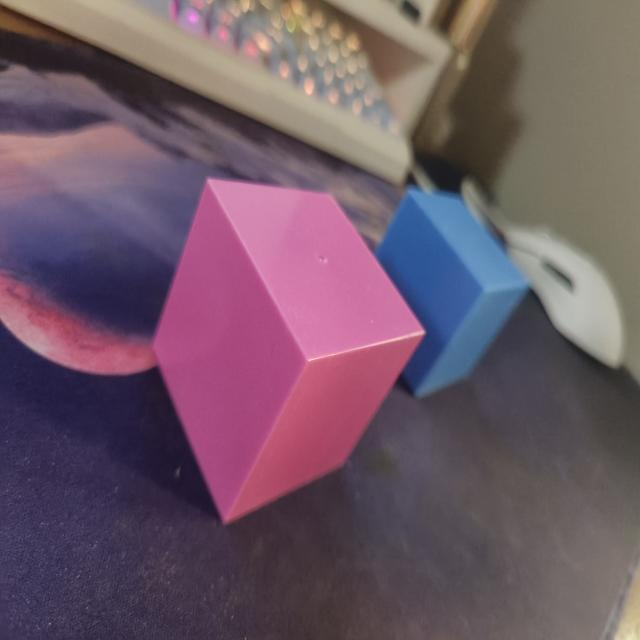blue: (376, 187, 539, 407)
pink: (144, 170, 430, 529)
